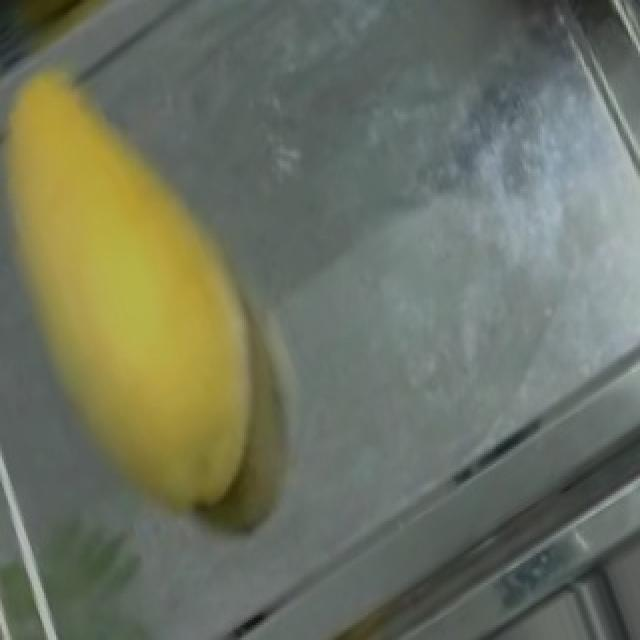fruit: (0, 38, 320, 462)
